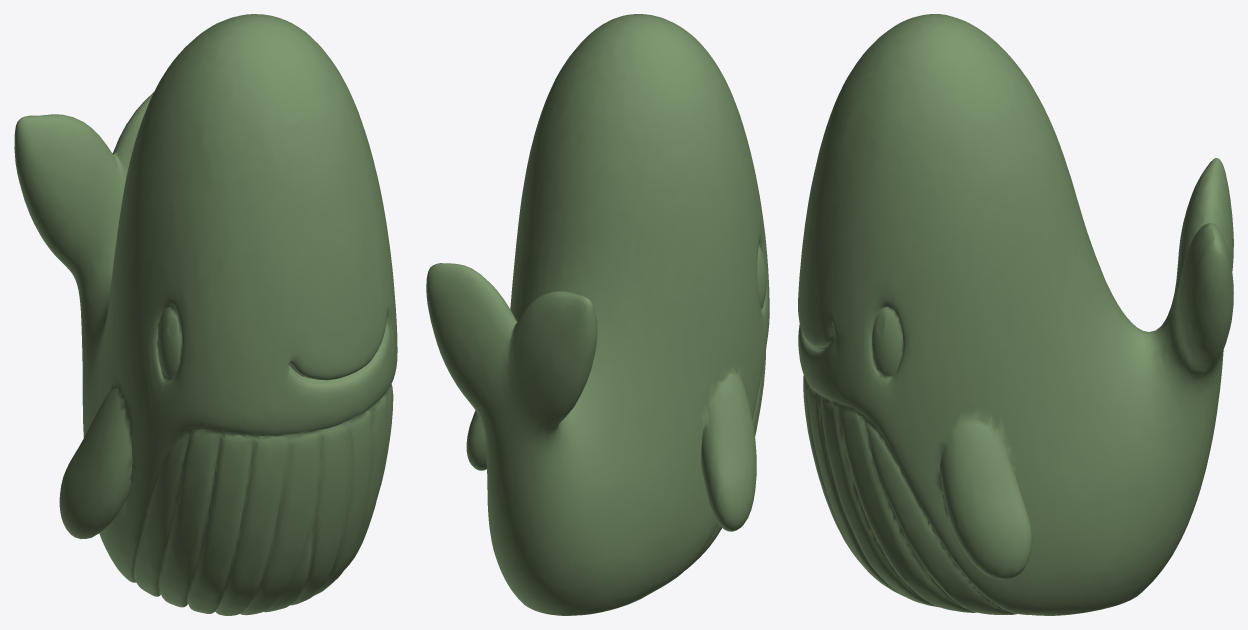
Rendered from whale-friend.glb.
3 renders of one model, left to right at view 1: azimuth 30°, elevation 25°; view 2: azimuth 150°, elevation 25°; view 3: azimuth 270°, elevation 25°, orthographic. The views are drawn at different scales.
Visible parts, largest first — view 1: tripo_printable_source; view 2: tripo_printable_source; view 3: tripo_printable_source.
Part boxes in pixels (x1,y1,x2,y2): tripo_printable_source: (14, 14, 397, 615); tripo_printable_source: (426, 14, 769, 615); tripo_printable_source: (798, 14, 1233, 615).
Bounding box in the file's own units: 55.05 × 100 × 70.
